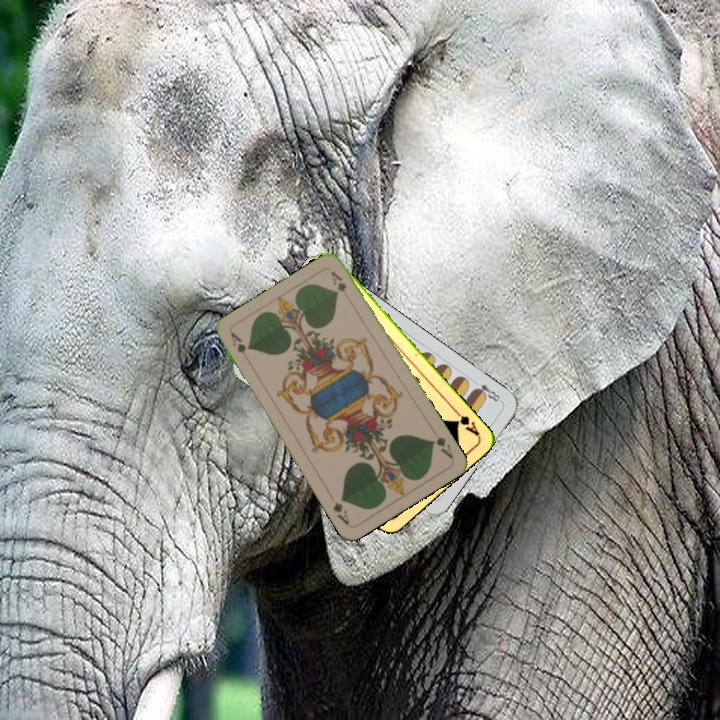E8: (469, 376, 504, 405)
GA: (450, 405, 483, 438), (226, 328, 253, 366), (428, 433, 456, 461)
